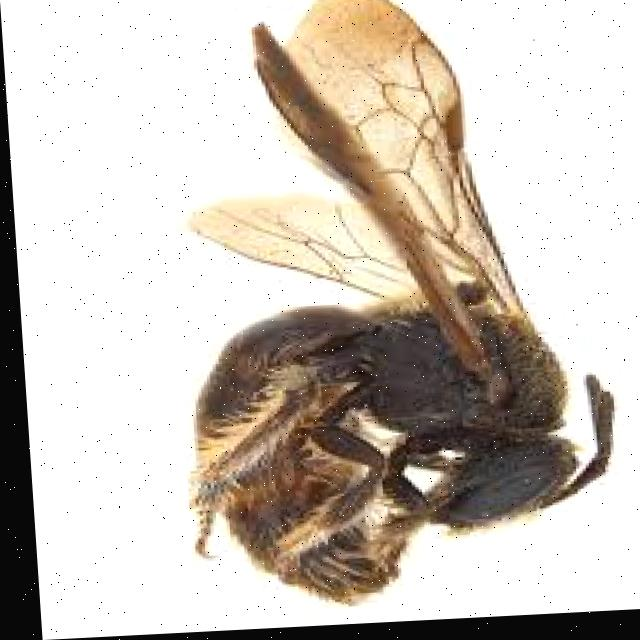Braunsapis: (104, 0, 640, 616)
